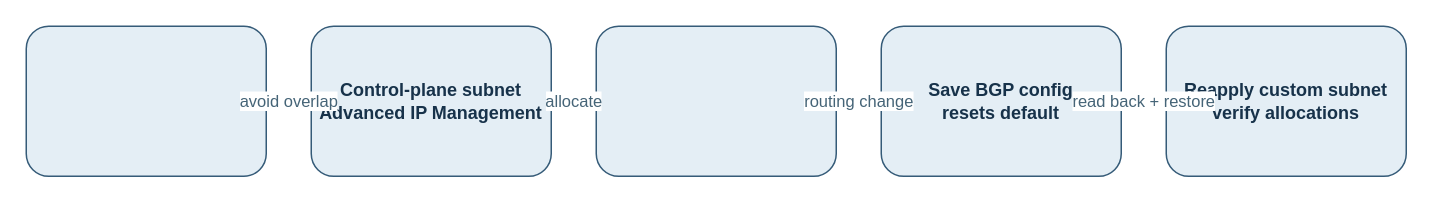
Image size: 1433x203. Some labels were removed from this diagram. Here are the shapes that lost their labels. From the top down, the centre of each, then its label:
At pixel 145 100: "Customer LAN and address plan".
At pixel 715 100: "FortiExtender / LAN Extension mgmt IP".
